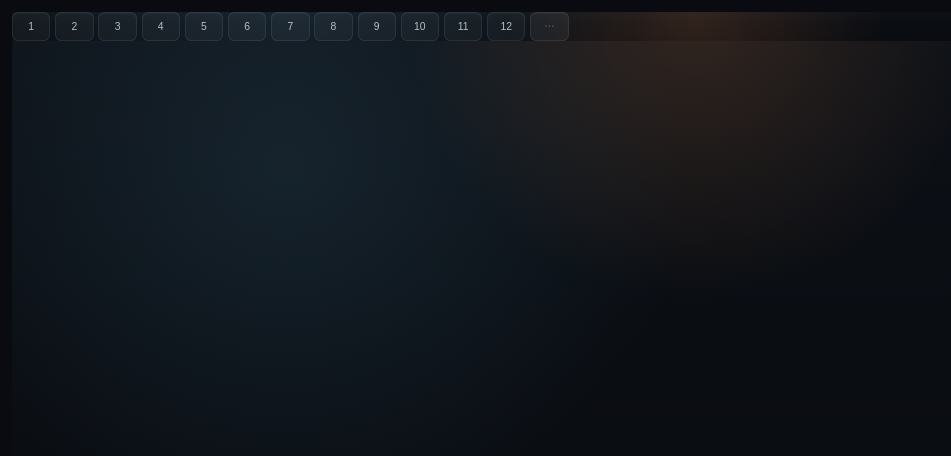
Test: EpisodeGrid › collapses back when collapse button is clicked
Click the button with class "episode-chip-more": (550, 26) [530, 12, 569, 41]
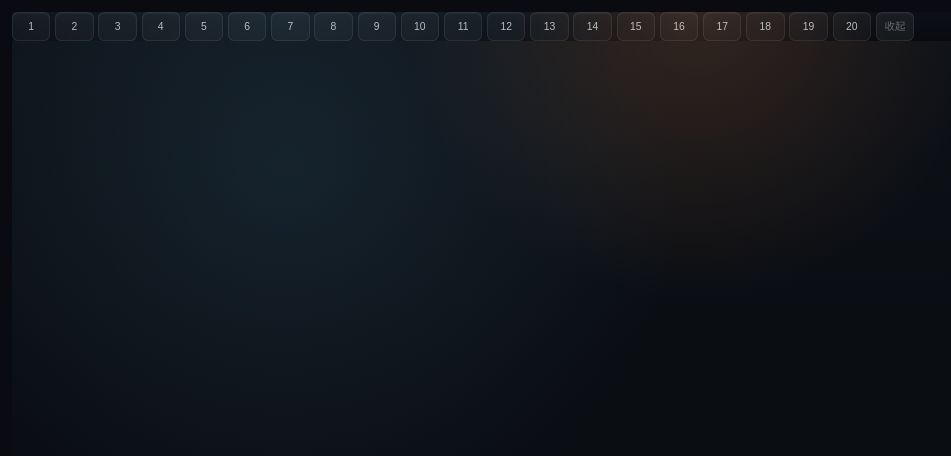
Click the button with class "episode-chip-collapse": (895, 26) [876, 12, 914, 41]
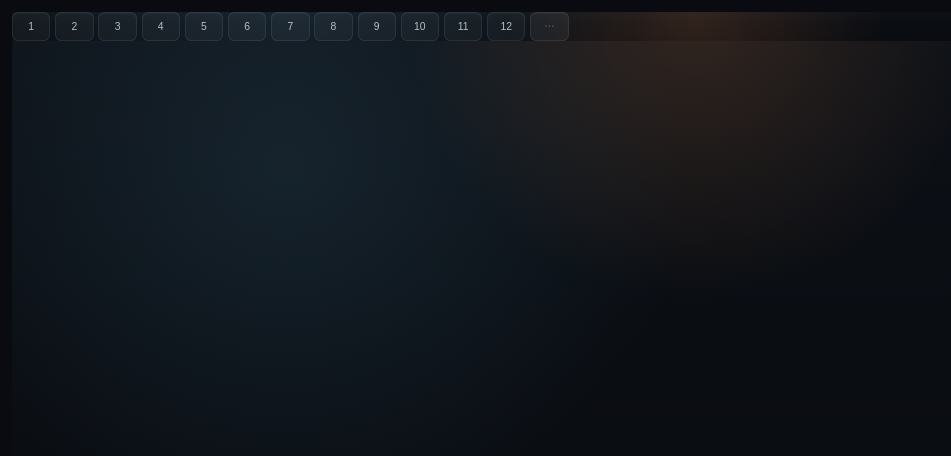
expect the button with class "episode-chip-more" is shown: met, box [530, 12, 569, 41]
